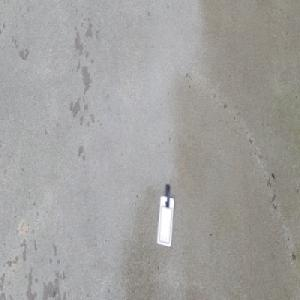LuggageTag: (155, 185, 174, 248)
